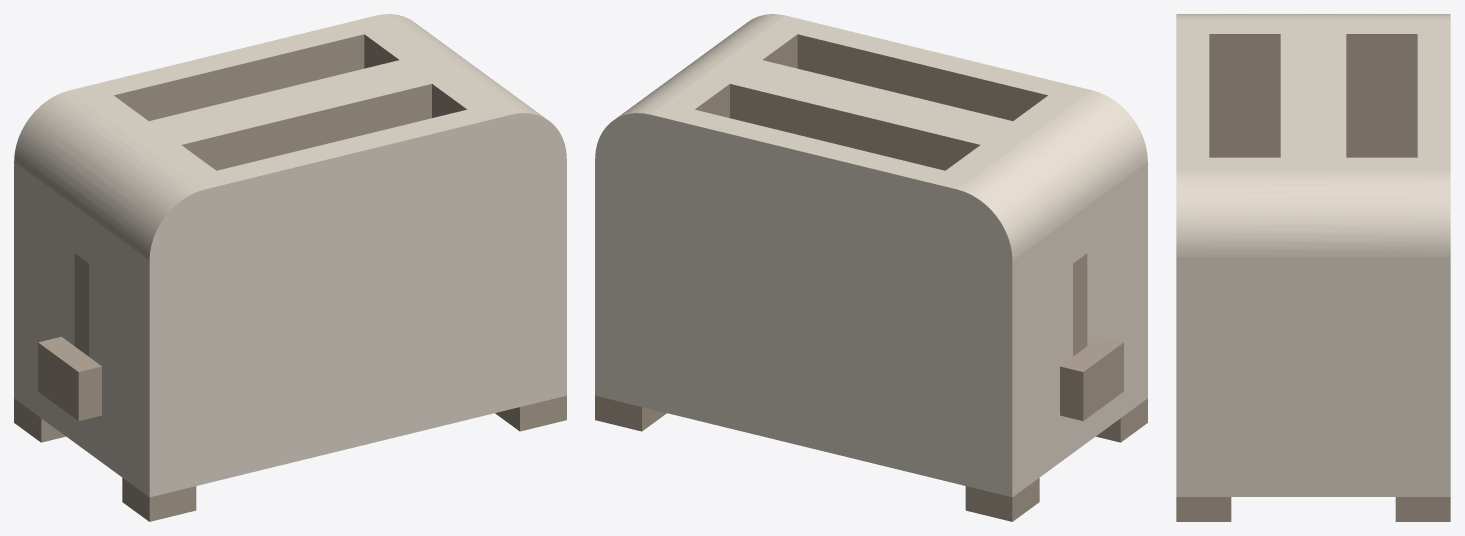
The model's file is kitToaster.glb.
3 views of the same model, side by side, from view 1: azimuth 30°, elevation 25°; view 2: azimuth 150°, elevation 25°; view 3: azimuth 270°, elevation 25° (orthographic).
Parts seen in each view (by area): view 1: kitToaster_metal, kitToaster_metalMedium; view 2: kitToaster_metal, kitToaster_metalMedium; view 3: kitToaster_metal, kitToaster_metalMedium.
Part boxes in pixels (box(x1,y1,x2,y2)): kitToaster_metal: box(14, 14, 566, 497); kitToaster_metalMedium: box(14, 34, 566, 521); kitToaster_metal: box(595, 14, 1147, 497); kitToaster_metalMedium: box(595, 34, 1147, 521); kitToaster_metal: box(1176, 14, 1450, 496); kitToaster_metalMedium: box(1176, 34, 1450, 521).
Bounding box in the file's own units: 0.34 × 0.2351 × 0.1809.
